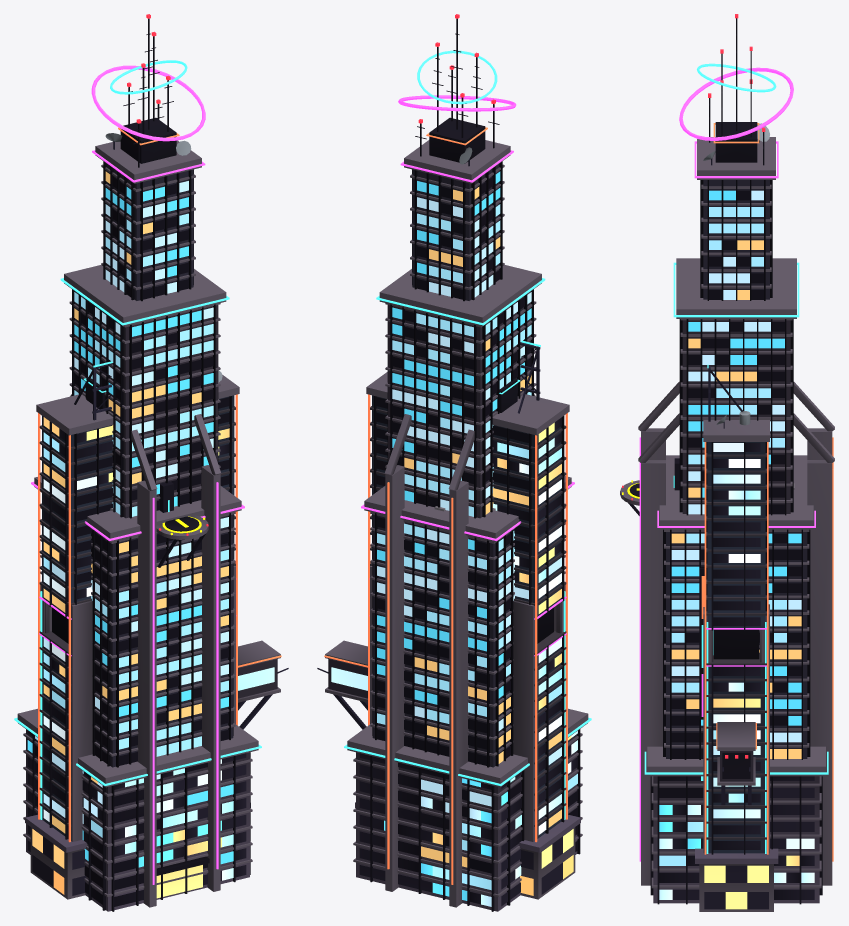
Rendered from buildings.glb.
3 renders of one model, left to right at view 1: azimuth 30°, elevation 25°; view 2: azimuth 150°, elevation 25°; view 3: azimuth 270°, elevation 25°, orthographic.
Parts seen in each view (by area): view 1: MegaTower, CorpSlab; view 2: MegaTower, CorpSlab; view 3: MegaTower, CorpSlab.
Part boxes in pixels (box(x1,y1,x2,y2)): MegaTower: box(14, 14, 261, 911); CorpSlab: box(25, 361, 288, 899); MegaTower: box(344, 14, 591, 911); CorpSlab: box(317, 340, 580, 899); MegaTower: box(620, 14, 834, 904); CorpSlab: box(695, 364, 778, 911).
Size of what is drawn, in the model's own units: 66.52 by 228 by 51.62.
1 material, 1 textured.
